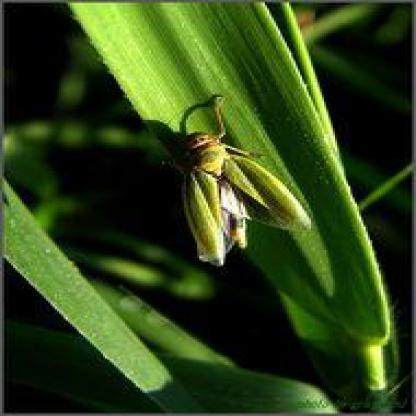Green-Leafhopper: (143, 94, 314, 275)
